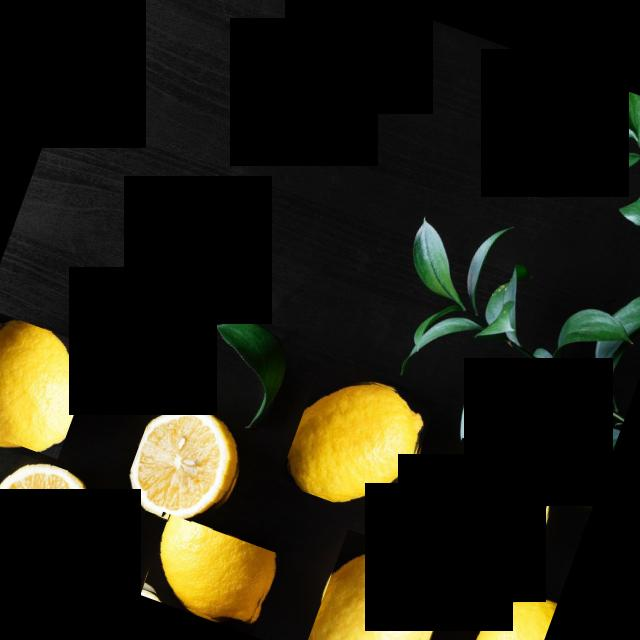lemon: (278, 362, 437, 524), (119, 394, 256, 538), (424, 438, 562, 578), (140, 514, 282, 636), (304, 529, 455, 640), (0, 308, 97, 459), (0, 450, 114, 574), (457, 581, 558, 640)
